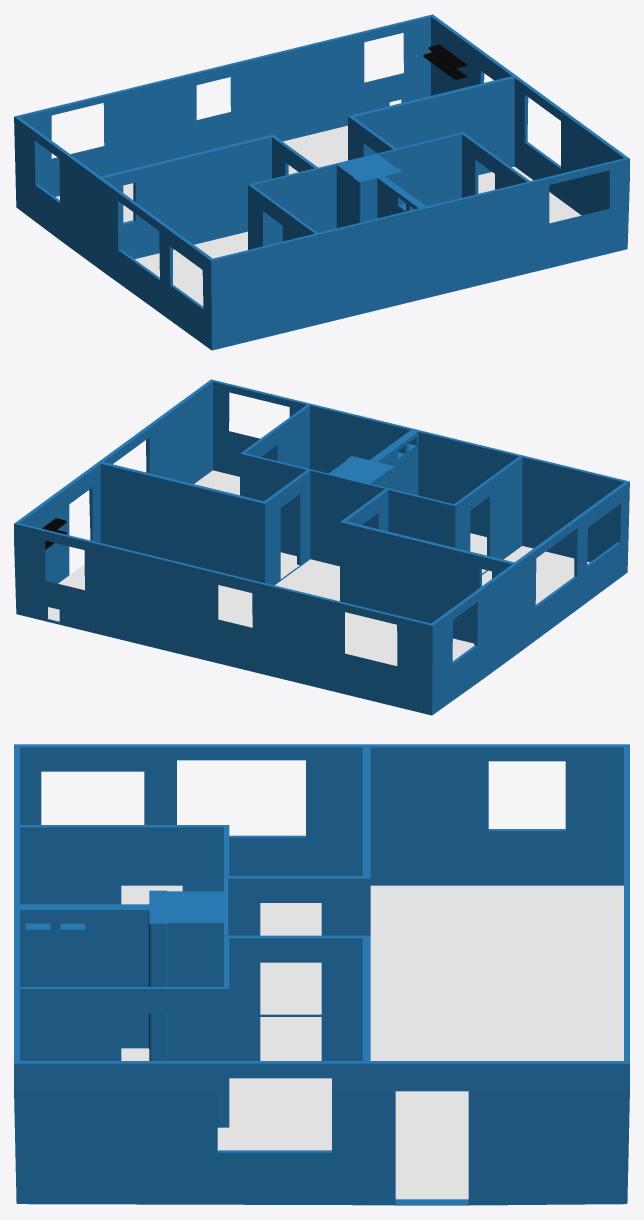
Rendered from HouseModel.glb.
The picture shows the model from 3 angles, top to bottom: view 1: azimuth 30°, elevation 25°; view 2: azimuth 150°, elevation 25°; view 3: azimuth 270°, elevation 25°; orthographic projection. The views are drawn at different scales.
Visible parts, largest first — view 1: Plane; view 2: Plane; view 3: Plane.
Part boxes in pixels (bbox=[...]): Plane: bbox=[14, 14, 629, 350]; Plane: bbox=[14, 379, 629, 715]; Plane: bbox=[14, 744, 629, 1205].
Size of the model in its own units: 30.78 by 6.47 by 25.11.
